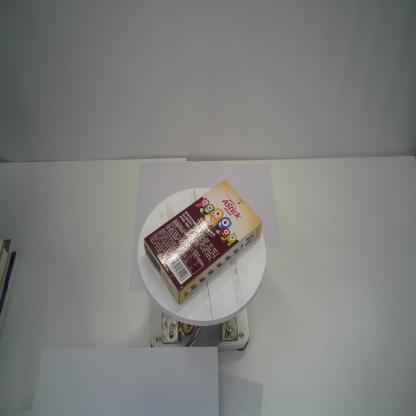Dessert: (143, 178, 264, 308)
